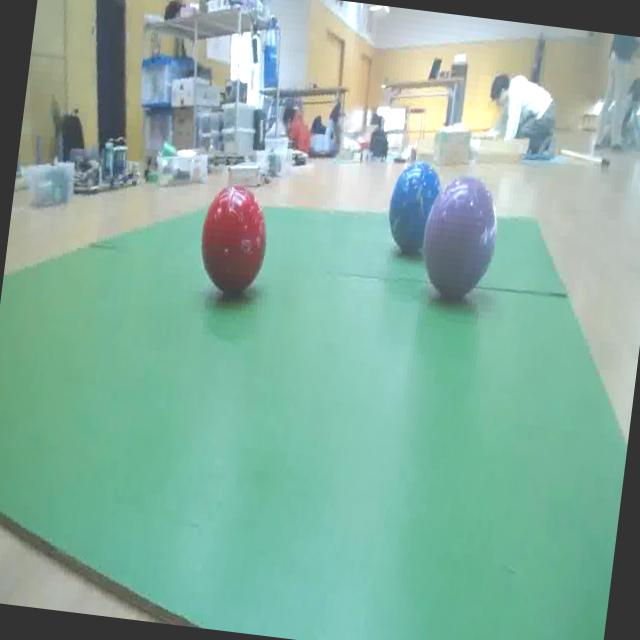blue_ball: (384, 158, 446, 260)
purple_ball: (416, 176, 504, 312)
red_ball: (194, 188, 271, 292)
